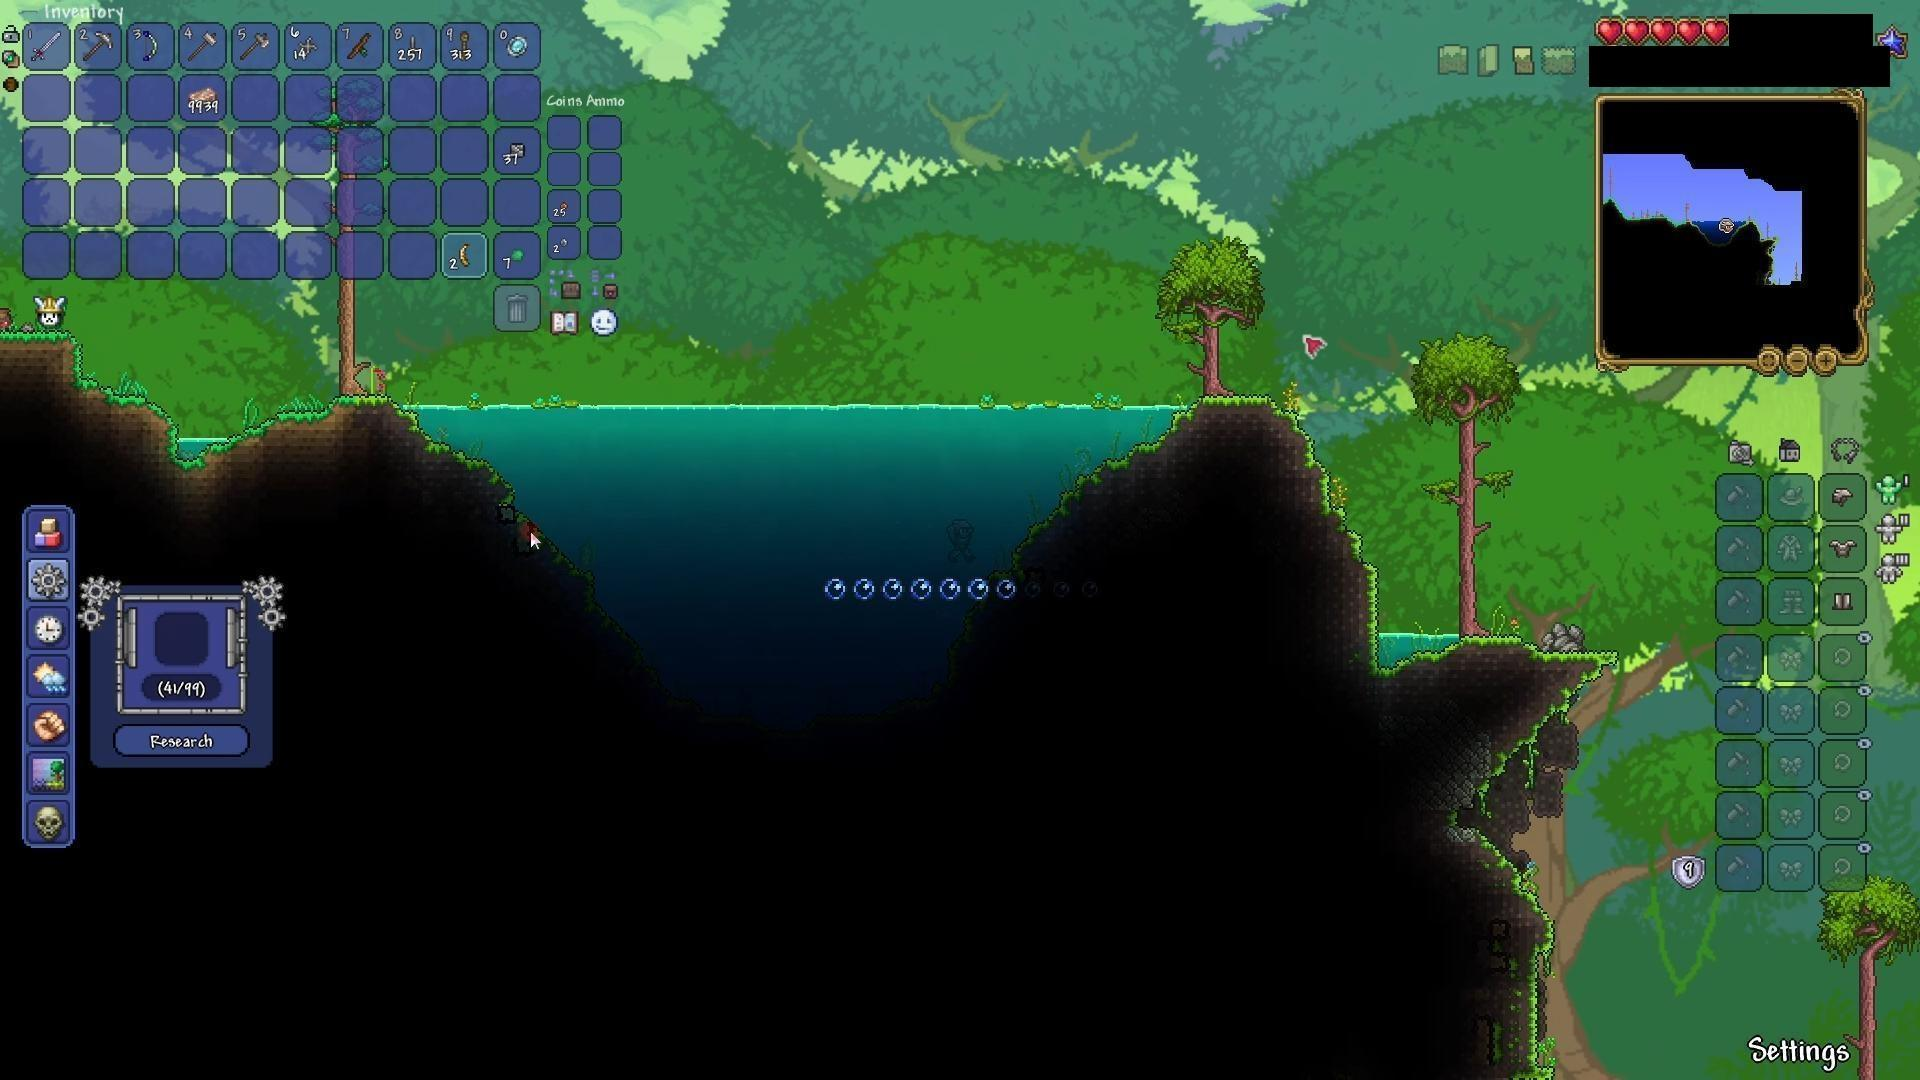dirt: (1195, 393, 1389, 654), (1, 328, 182, 468), (1480, 833, 1560, 1080), (204, 392, 397, 462), (1502, 651, 1622, 762), (396, 406, 510, 500), (1371, 629, 1542, 682)
heart: (1702, 17, 1733, 51), (1593, 16, 1626, 46), (1676, 15, 1704, 50), (1650, 16, 1676, 49), (1625, 15, 1651, 44)
liquid: (406, 385, 1168, 419), (167, 429, 220, 456)
tree: (1407, 322, 1522, 654), (1828, 861, 1920, 1079), (1154, 233, 1249, 410)
